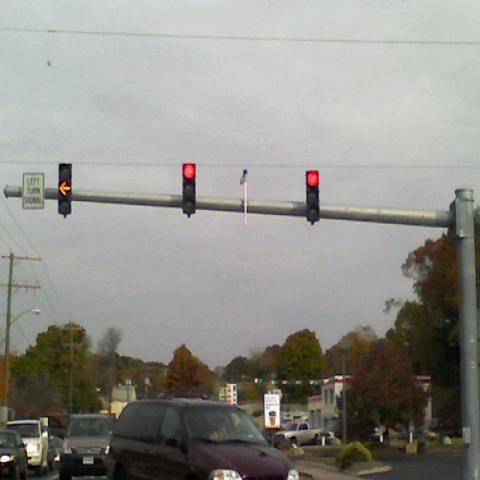car: (108, 399, 300, 479), (59, 414, 114, 479), (8, 419, 64, 472), (0, 430, 32, 478), (274, 422, 322, 447)
truck: (273, 422, 322, 450)
